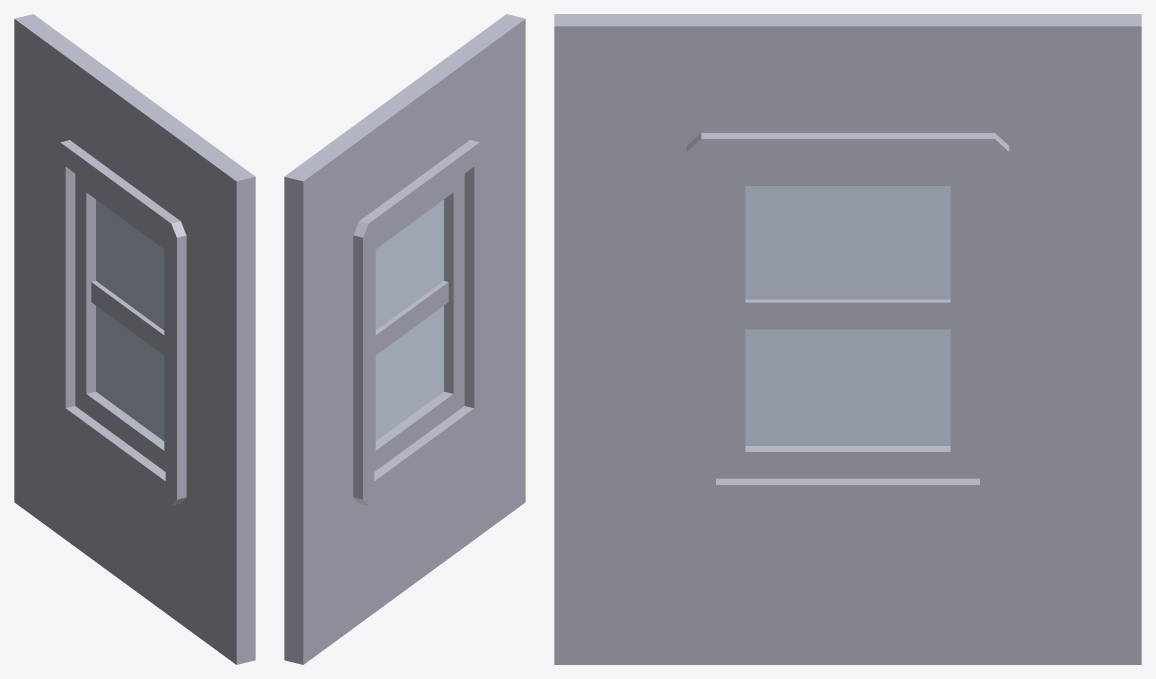
The model's file is wall-window-square-detailed.obj.
3 renders of one model, left to right at view 1: azimuth 30°, elevation 25°; view 2: azimuth 150°, elevation 25°; view 3: azimuth 270°, elevation 25°, orthographic. The views are drawn at different scales.
Size of the model in its own units: 0.2 by 2.4 by 2.
